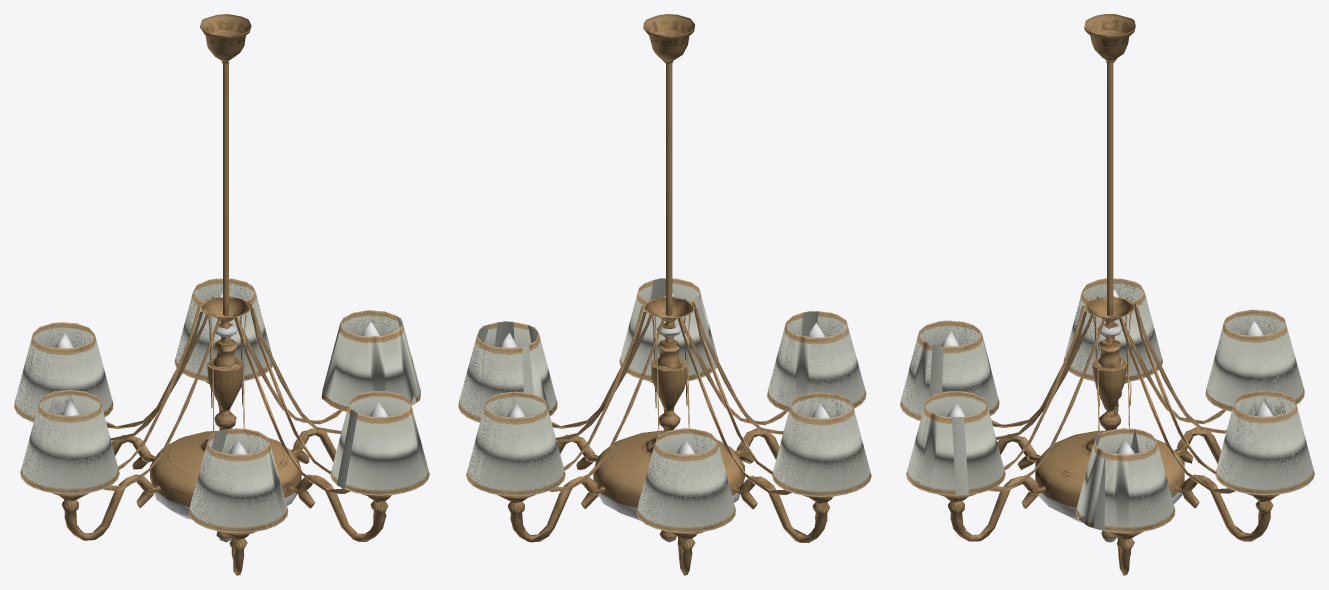
File: Chandelier_02.glb
3 views of the same model, side by side, from view 1: azimuth 30°, elevation 25°; view 2: azimuth 150°, elevation 25°; view 3: azimuth 270°, elevation 25° (orthographic).
Parts seen in each view (by area): view 1: Chandelier_02; view 2: Chandelier_02; view 3: Chandelier_02.
Boxes of the visible parts, x1,y1,x2,y2 form: Chandelier_02: [14, 14, 429, 575]; Chandelier_02: [458, 14, 871, 575]; Chandelier_02: [900, 14, 1314, 575].
Size of the model in its own units: 0.6756 by 0.8481 by 0.6158.
Materials: 2 (1 with a texture image).
